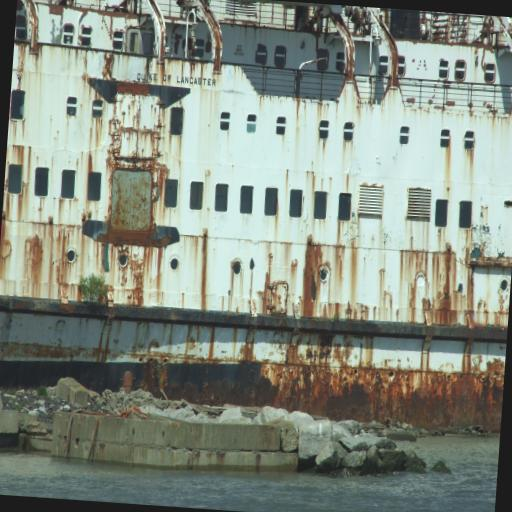segmentation: (0, 297, 505, 431), (83, 116, 179, 247), (48, 226, 78, 303), (303, 243, 331, 316), (263, 253, 289, 314), (202, 4, 222, 73), (42, 3, 128, 19), (381, 24, 399, 92), (130, 248, 146, 306), (25, 235, 42, 282), (25, 0, 39, 52), (330, 8, 351, 40), (12, 44, 25, 89), (0, 219, 12, 260), (201, 228, 208, 298), (117, 81, 149, 96), (434, 307, 456, 325), (49, 0, 73, 15), (102, 53, 113, 79), (12, 62, 23, 88), (11, 145, 24, 164), (118, 247, 128, 268), (349, 46, 354, 79), (42, 226, 53, 239), (499, 16, 505, 27), (107, 21, 111, 37), (128, 14, 137, 19), (201, 299, 205, 309)
